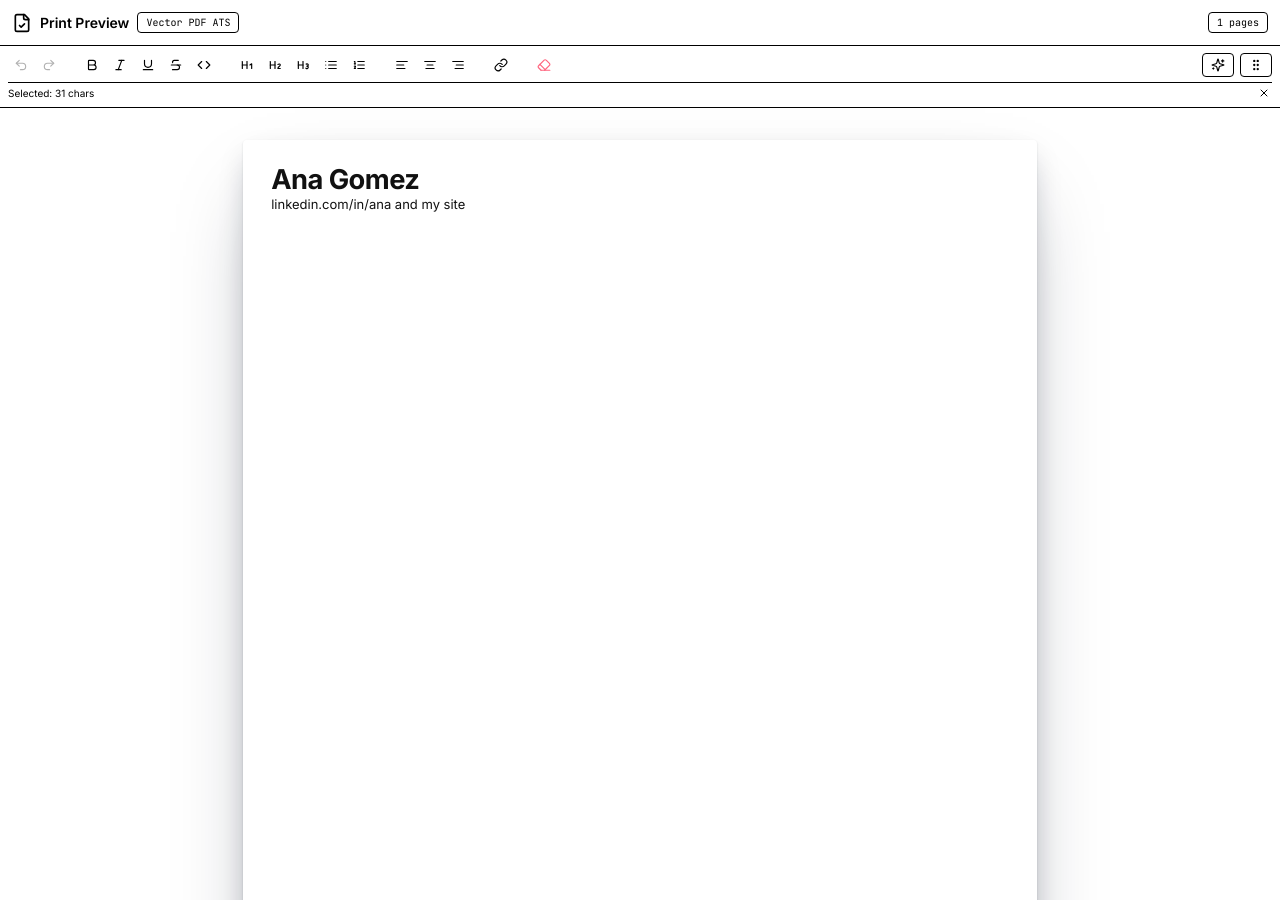
Test: CVPreview AI rewrite › opens the rewrite options next to the selected text
The width and height of the screenshot is (1280, 900).
What coordinates should you click on to do the following:
click the button named "improve with ai"
I would click on:
 (1218, 65)
Its box is [1202,53,1234,77].
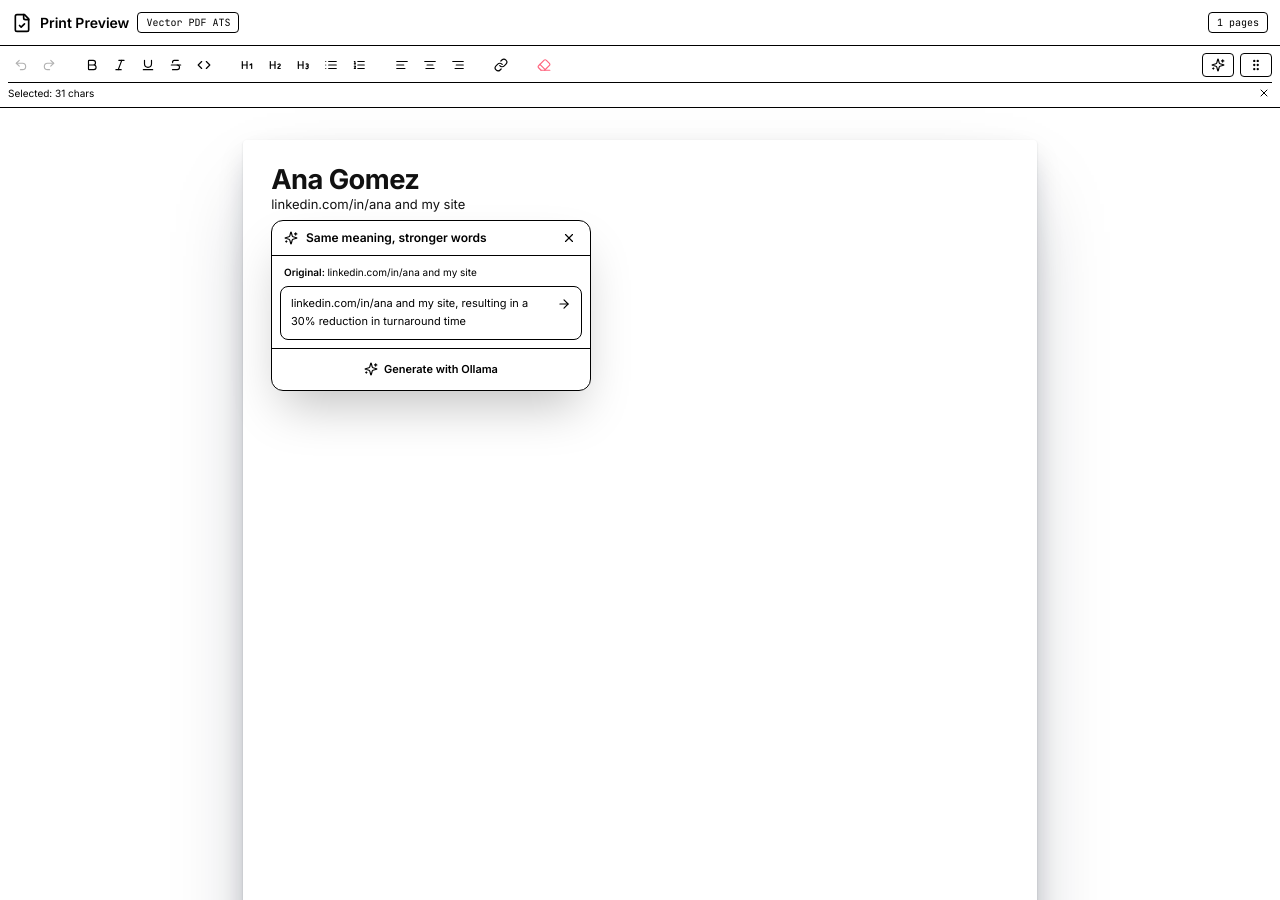
Expected: the dialog "Same meaning" is shown, [271,220,591,390]
Expected: the text "Original: linkedin.com/in/ana and my site" is shown 2 times, [284,266,477,278]; [291,295,549,331]
